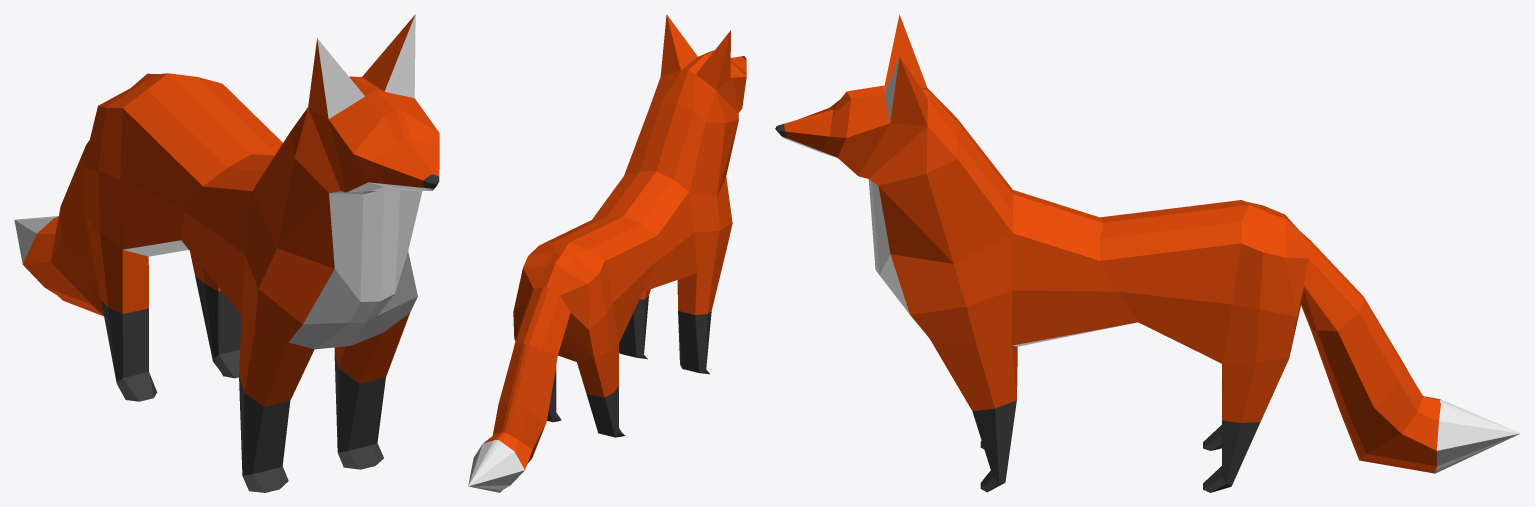
File: fox.fbx
3 views of the same model, side by side, from view 1: azimuth 30°, elevation 25°; view 2: azimuth 150°, elevation 25°; view 3: azimuth 270°, elevation 25° (orthographic). The views are drawn at different scales.
Parts seen in each view (by area): view 1: Fox; view 2: Fox; view 3: Fox.
Part boxes in pixels (x1,y1,x2,y2): Fox: (14,14,439,492); Fox: (468,14,746,492); Fox: (775,14,1520,492).
Size of the model in its own units: 24.85 by 84.21 by 130.
